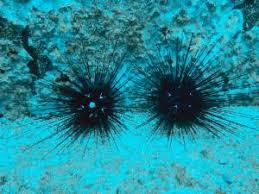urchin: (138, 39, 239, 145), (38, 50, 133, 152)
